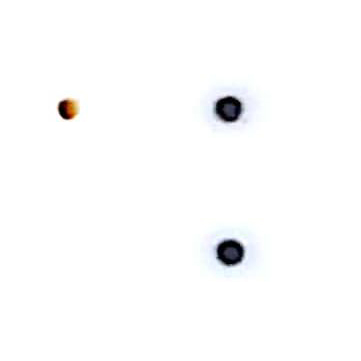cancer: (191, 71, 269, 148), (197, 216, 272, 287)
normal: (52, 90, 98, 135)
